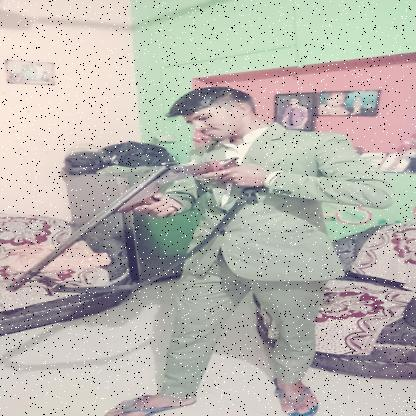rifle: (2, 154, 246, 294)
